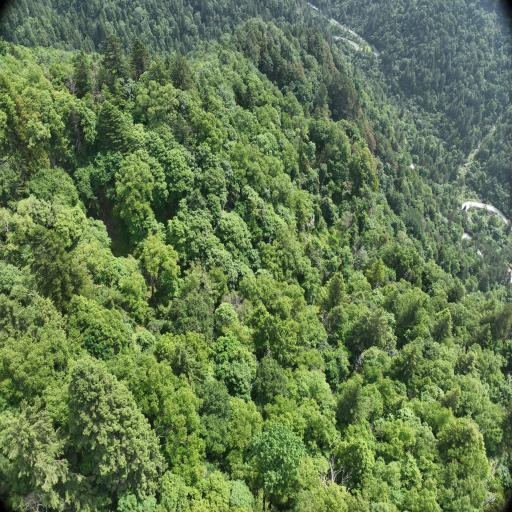dead-tree: (319, 455, 360, 498), (88, 60, 118, 100), (68, 103, 86, 151), (318, 310, 338, 343), (350, 239, 374, 266), (62, 64, 80, 97), (220, 293, 247, 311), (337, 214, 351, 246), (42, 58, 54, 84), (351, 354, 366, 374), (402, 266, 414, 284), (143, 56, 154, 74), (134, 61, 143, 81), (482, 496, 496, 508), (264, 346, 277, 358), (349, 288, 357, 301), (374, 278, 379, 290), (390, 276, 394, 284)
